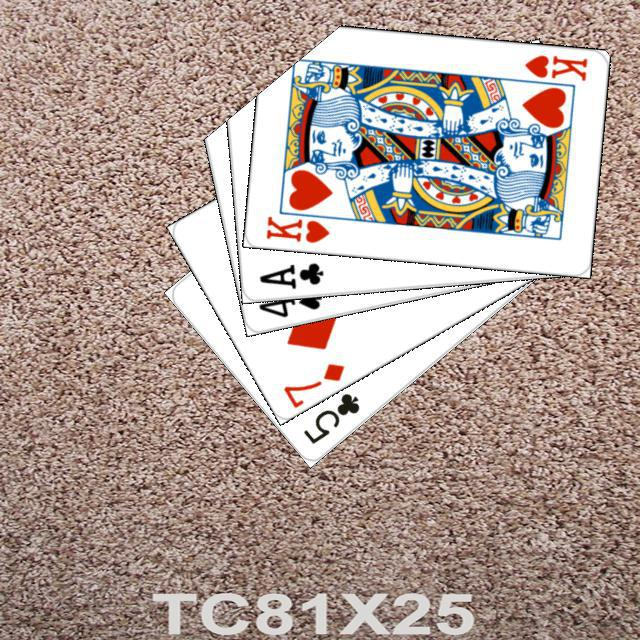4s: (253, 284, 324, 320)
5c: (298, 388, 362, 446)
7d: (278, 358, 347, 408)
Ac: (254, 257, 325, 291)
Kh: (261, 203, 339, 245), (519, 50, 589, 82)
